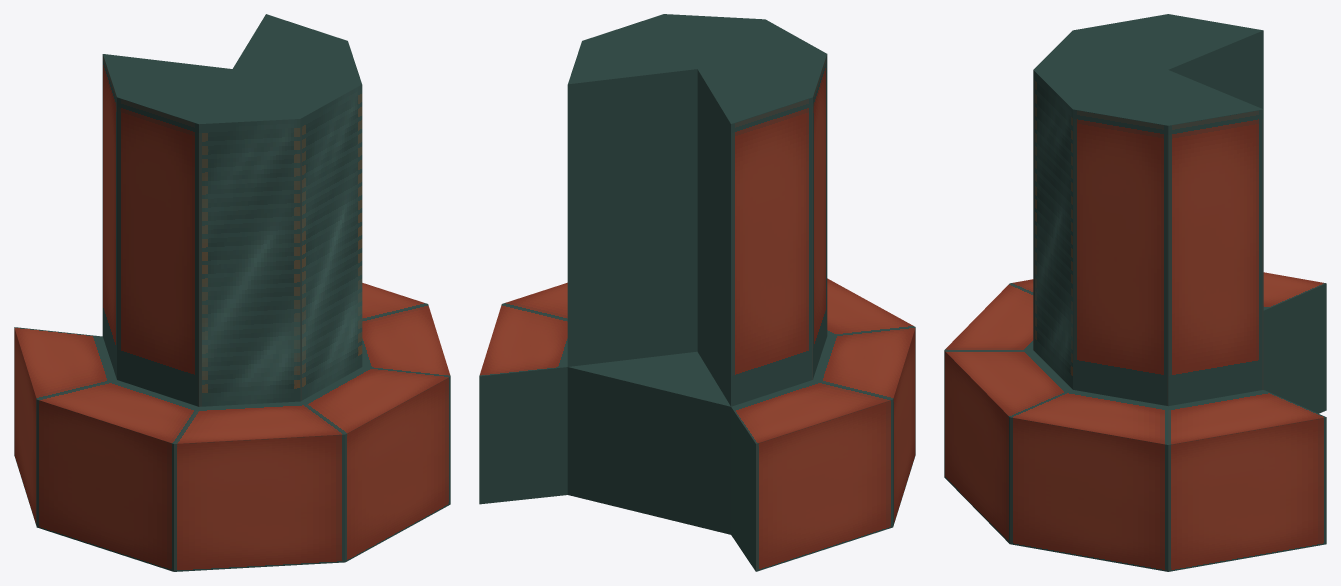
File: cray.fbx
The picture shows the model from 3 angles, left to right: view 1: azimuth 30°, elevation 25°; view 2: azimuth 150°, elevation 25°; view 3: azimuth 270°, elevation 25°; orthographic projection.
Visible parts, largest first — view 1: cray; view 2: cray; view 3: cray.
Part boxes in pixels (left/top/right/bottom): cray: left=14, top=14, right=450, bottom=571; cray: left=479, top=14, right=915, bottom=571; cray: left=944, top=14, right=1326, bottom=571.
Size of the model in its own units: 8 by 8.02 by 6.83.
